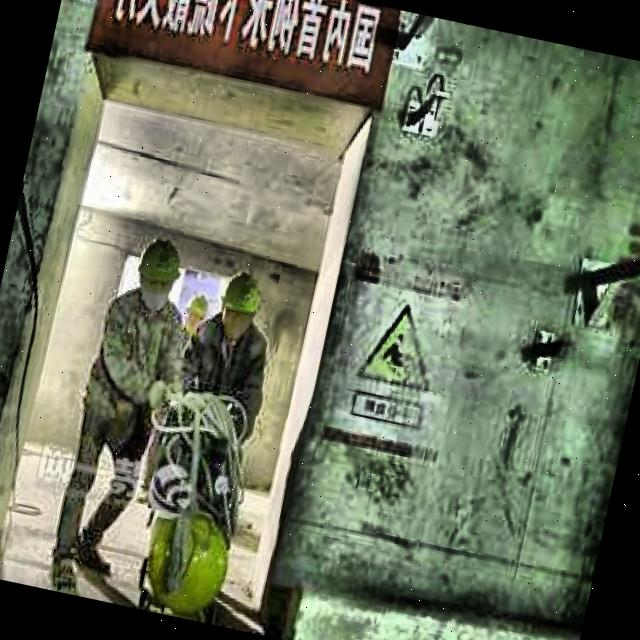helmet: (132, 228, 192, 307), (213, 264, 267, 340), (178, 288, 212, 336)
